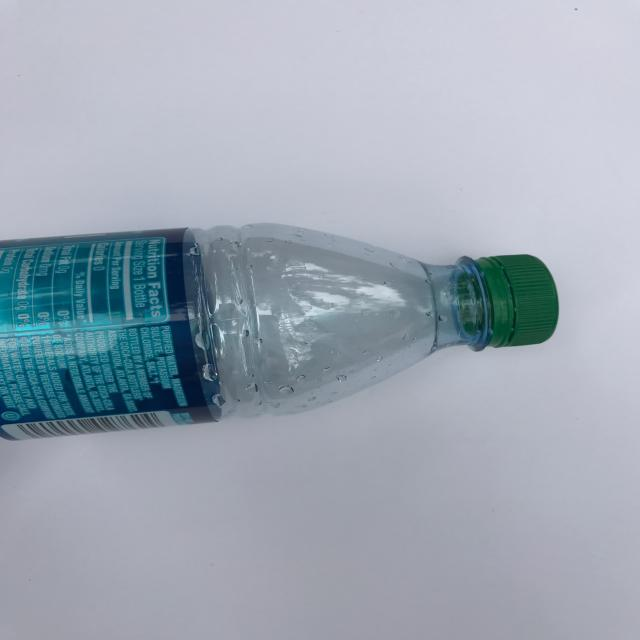plastic: (0, 221, 559, 441)
